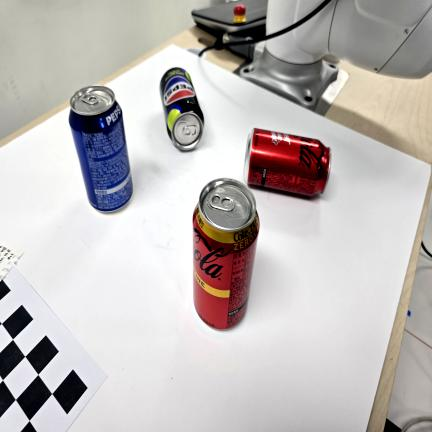can_coke_decaf: (193, 178, 259, 329)
can_coke_zero: (244, 128, 331, 196)
can_pepsi: (69, 86, 133, 212)
can_pepsi_zero: (160, 68, 204, 150)
